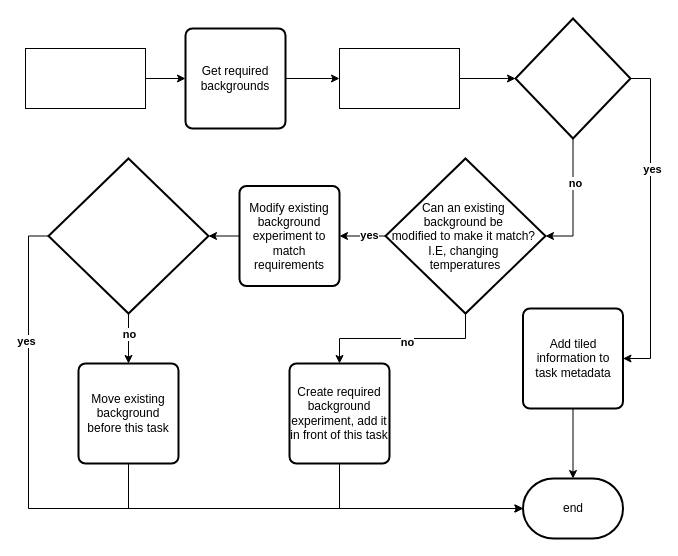
Image size: 678x556. Some labels were removed from this diagram. The shapes that lost their labels are listed below. From the top down, each one's centre as x and y in pixels, then its label:
(x=85, y=78): For each task:
(x=399, y=78): For each background:
(x=572, y=78): Does background exist in tiled?
(x=128, y=235): Is this existing background before this task?
